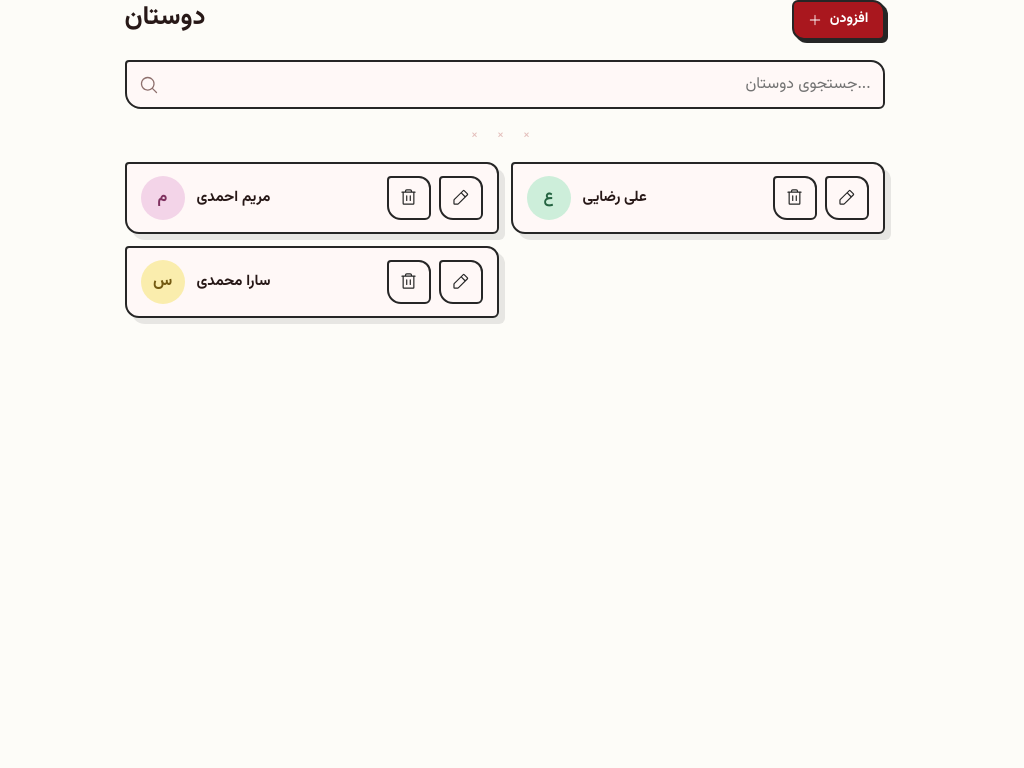
it: FriendsPage › edit friend › updates a friend and reflects the new name in the list
expect the text "مریم احمدی" is shown: met, box [196,186,270,209]
Click the button named "ویرایش مریم احمدی" at (460, 198), box [438,176,482,220]
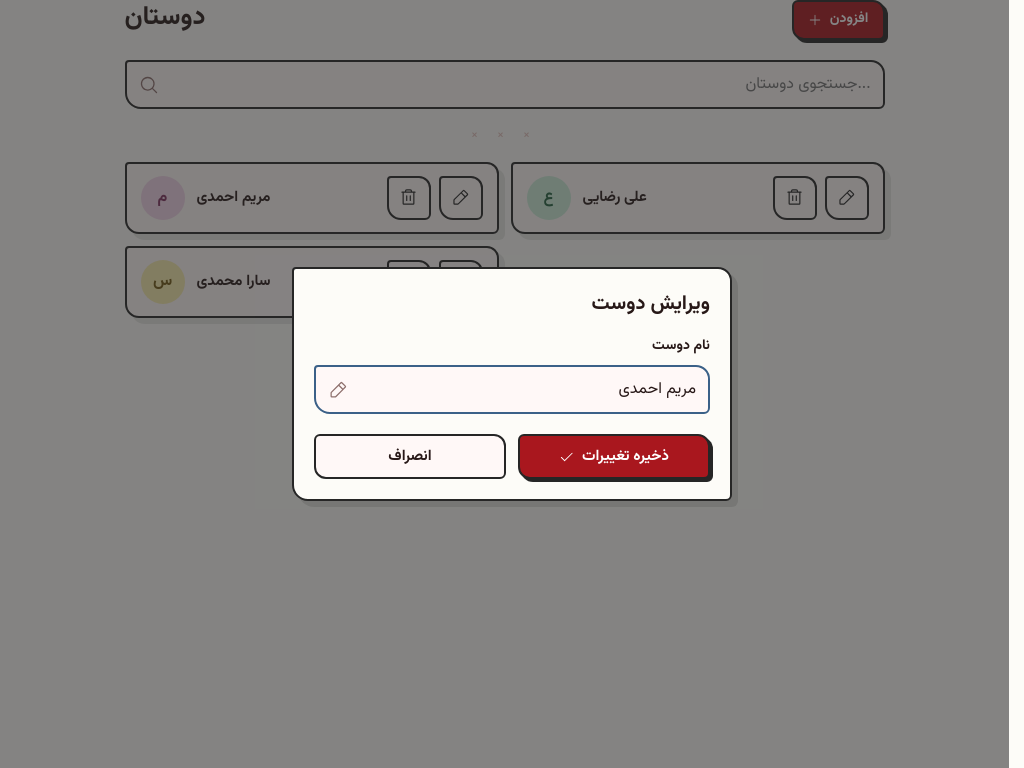
Replace the text in the field showing "مریم احمدی" with "مریم احمدی جدید" at (526, 390), box [356,367,696,412]
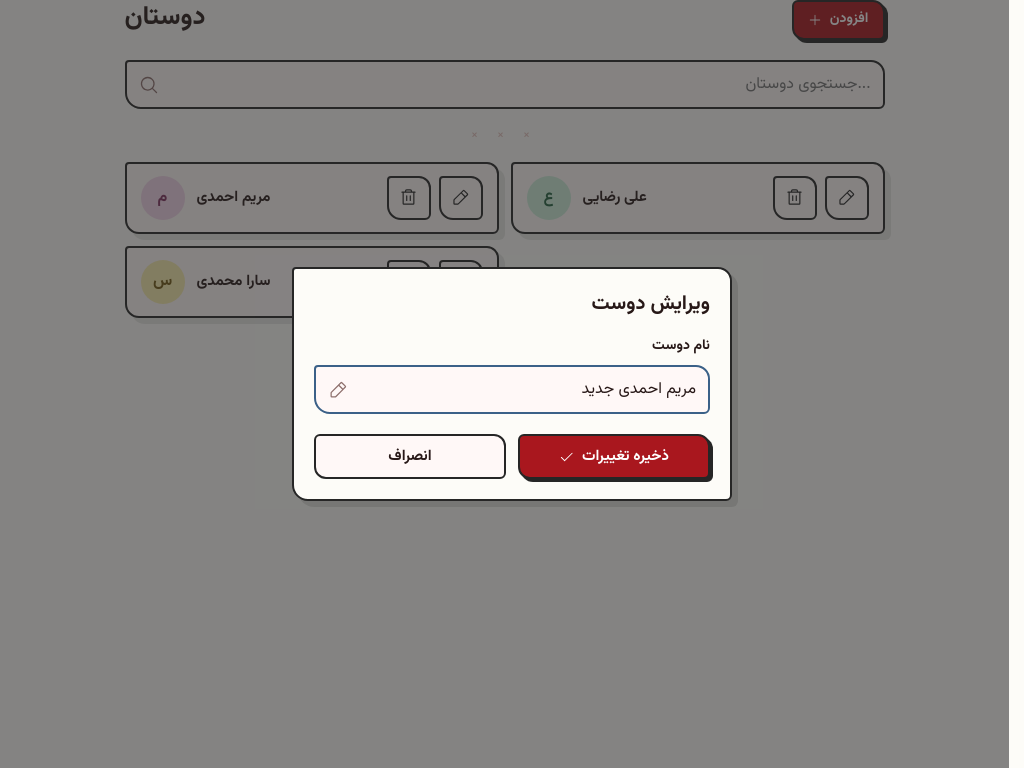
Click the button "ذخیره تغییرات" at (614, 457), box [518,434,710,479]
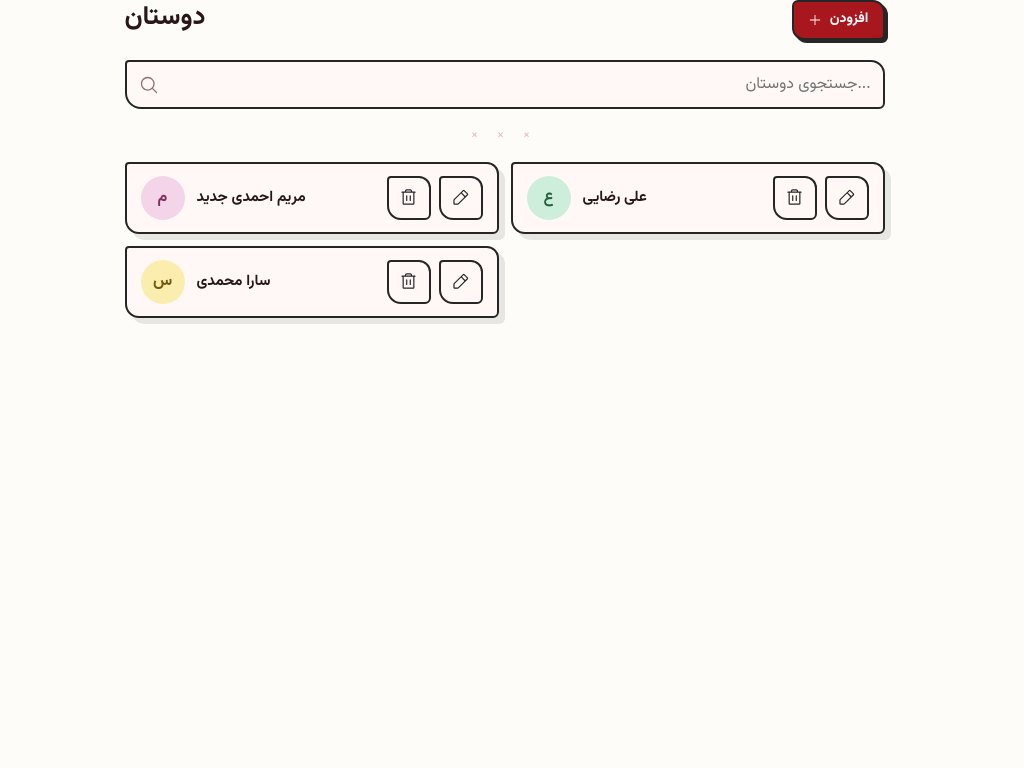
expect the text "مریم احمدی جدید" is shown: met, box [196,186,306,209]
